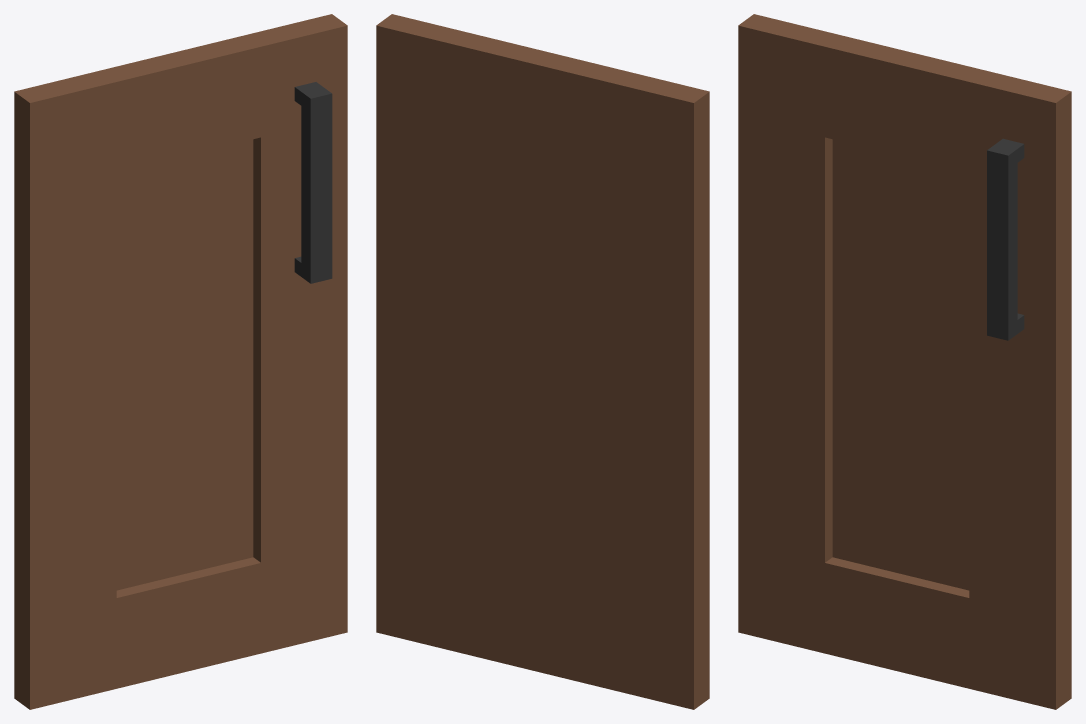
File: Door2_C2_10.fbx
3 renders of one model, left to right at view 1: azimuth 30°, elevation 25°; view 2: azimuth 150°, elevation 25°; view 3: azimuth 330°, elevation 25°, orthographic.
Parts seen in each view (by area): view 1: Door2_C2_10; view 2: Door2_C2_10; view 3: Door2_C2_10.
Part boxes in pixels (left/top/right/bottom): Door2_C2_10: left=14, top=14, right=347, bottom=709; Door2_C2_10: left=376, top=14, right=709, bottom=709; Door2_C2_10: left=738, top=14, right=1071, bottom=709.
Bounding box in the file's own units: 29 × 52.92 × 5.03.
